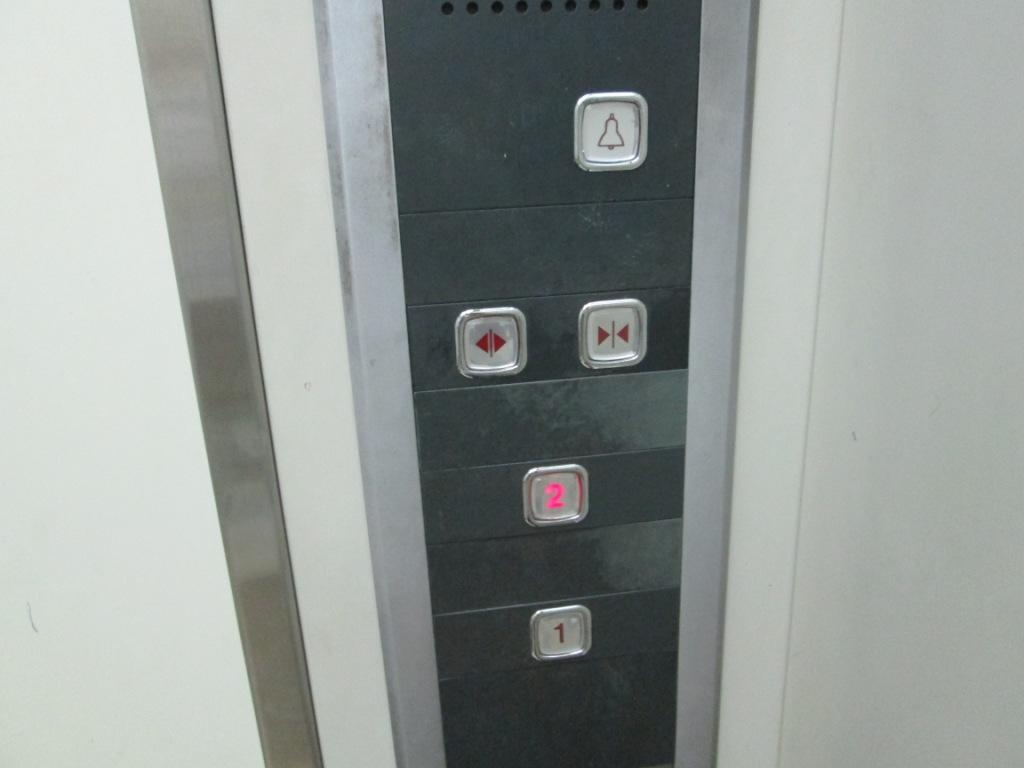1: (527, 601, 594, 663)
2: (520, 461, 590, 529)
alarm: (573, 89, 648, 173)
close: (578, 297, 649, 373)
open: (454, 305, 530, 383)
